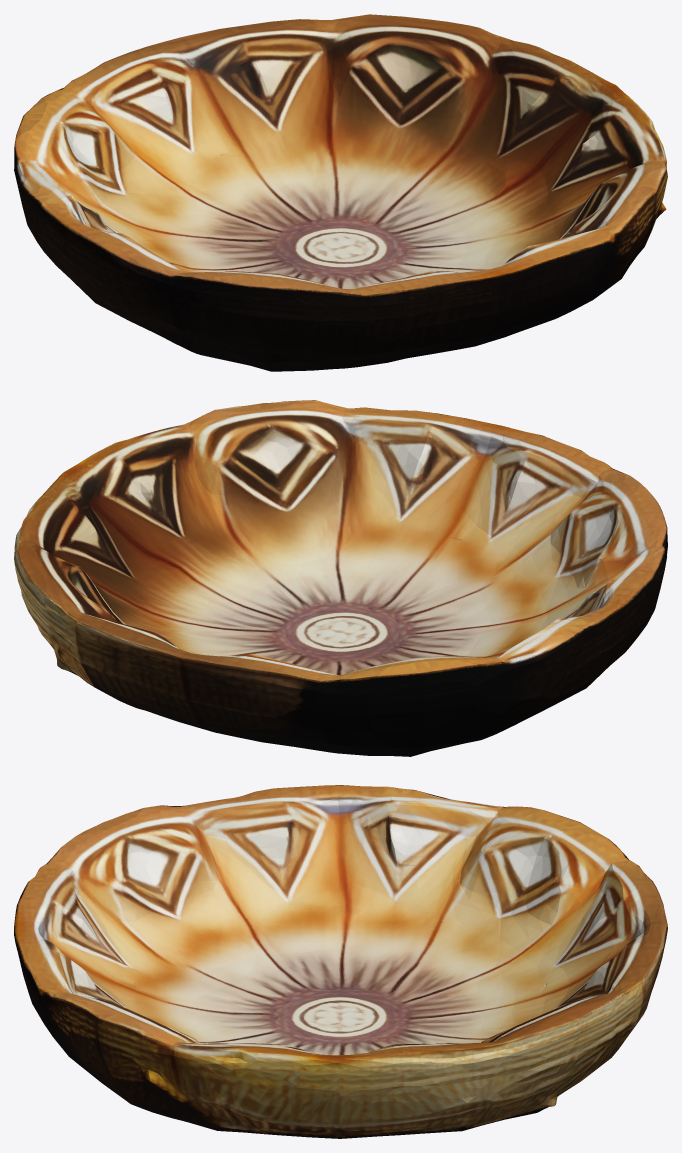
Rendered from coconut-shell-soap-dish-art-deco.jpeg.glb.
3 renders of one model, top to bottom at view 1: azimuth 30°, elevation 25°; view 2: azimuth 150°, elevation 25°; view 3: azimuth 270°, elevation 25°, orthographic.
Parts seen in each view (by area): view 1: world; view 2: world; view 3: world.
Boxes of the visible parts, x1,y1,x2,y2 form: world: (14,14,667,371); world: (14,400,667,756); world: (14,785,667,1138).
Bounding box in the file's own units: 0.9995 × 0.2475 × 0.9991.
1 material, 1 textured.
